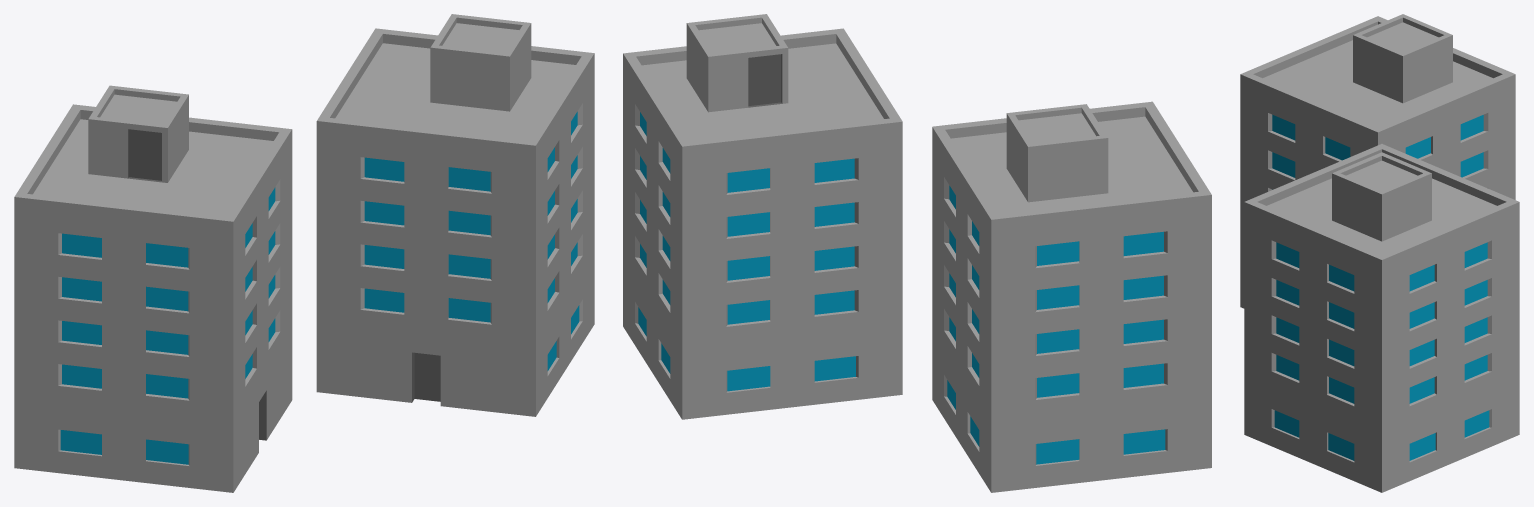
Rendered from MediumVillage.fbx.
3 views of the same model, side by side, from view 1: azimuth 30°, elevation 25°; view 2: azimuth 150°, elevation 25°; view 3: azimuth 270°, elevation 25° (orthographic). The views are drawn at different scales.
Parts seen in each view (by area): view 1: Cube.001, Cube.002; view 2: Cube.002, Cube.001; view 3: Cube.002, Cube.001.
Boxes of the visible parts, <box> form: Cube.001: <box>14,85,292,492</box>; Cube.002: <box>316,14,594,416</box>; Cube.002: <box>623,14,902,419</box>; Cube.001: <box>932,101,1211,492</box>; Cube.002: <box>1244,144,1519,492</box>; Cube.001: <box>1240,14,1515,308</box>.
Bounding box in the file's own units: 753 × 391 × 364.
